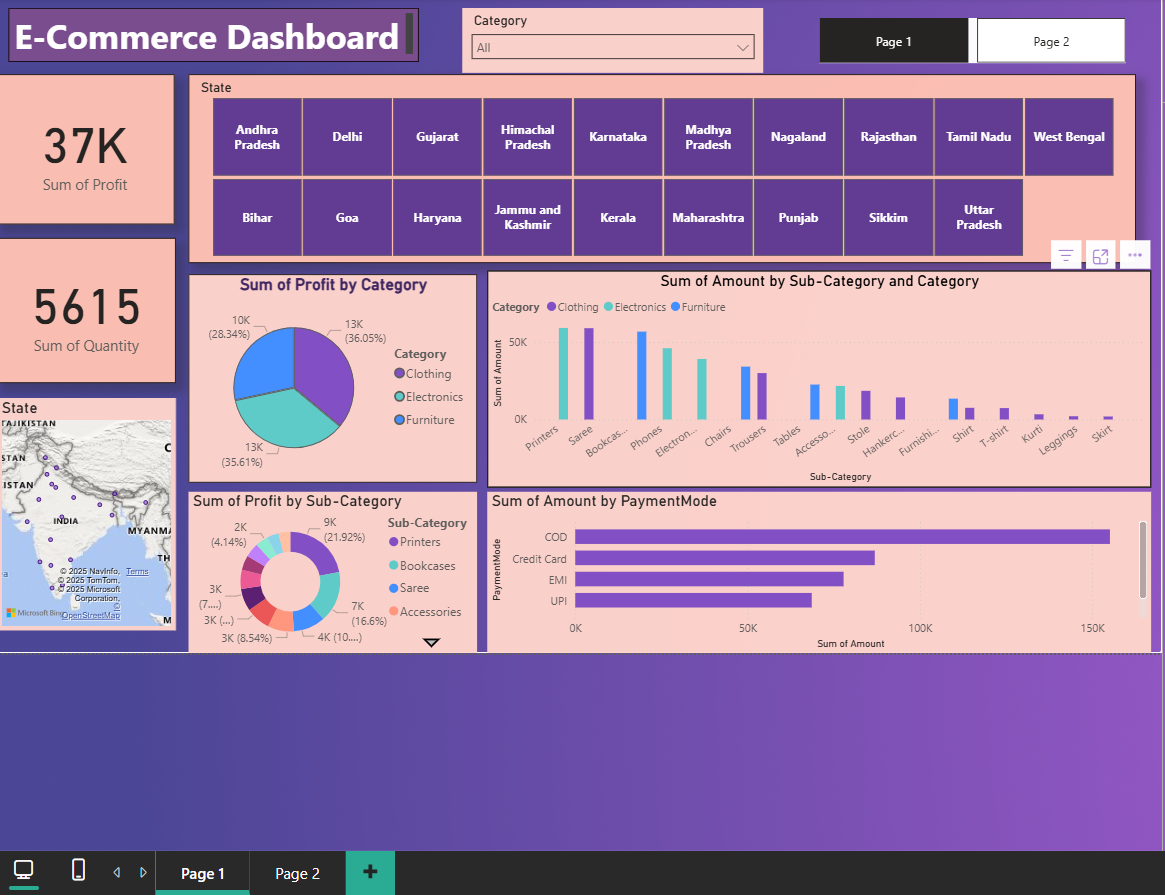

This screenshot's page, from the dashboard's own definition file:
{"tool":"powerbi","page":{"name":"Page 1","canvas":[1280,720],"ordinal":0},"visuals":[{"type":"card","fields":{"Values":["Sum(Details.Profit)"]},"box":[0,83.7,196.2,164.7],"z":0},{"type":"card","fields":{"Values":["Sum(Details.Quantity)"]},"box":[1.4,263.5,196.2,159.2],"z":1000},{"type":"textbox","box":[13.7,11,450.1,59],"z":2000},{"type":"slicer","fields":{"Values":["Ordersdata.State"]},"box":[211.3,83.7,1040.1,207.2],"z":3000},{"type":"map","fields":{"Category":["Ordersdata.State"]},"box":[1.4,439.1,196.2,255.2],"z":4000},{"type":"pieChart","fields":{"Category":["Details.Category"],"Y":["Sum(Details.Profit)"]},"box":[211.3,303.3,317,229.2],"z":5000},{"type":"clusteredColumnChart","fields":{"Category":["Details.Sub-Category"],"Series":["Details.Category"],"Y":["Sum(Details.Amount)"]},"box":[539.3,299.1,728.6,238.8],"z":5001},{"type":"donutChart","fields":{"Category":["Details.Sub-Category"],"Y":["Sum(Details.Profit)"]},"box":[211.3,542,317,178.4],"z":5002},{"type":"clusteredBarChart","fields":{"Category":["Details.PaymentMode"],"Y":["Sum(Details.Amount)"]},"box":[539,542,729,178],"z":5003},{"type":"pageNavigator","box":[904.3,22,336.2,49.4],"z":5004},{"type":"slicer","fields":{"Values":["Details.Category"]},"box":[511.8,11,330.7,71.4],"z":5005}]}

Visuals, with their boxes in screenshot pixels (x1, y1, x2, y2):
card - Sum(Details.Profit): 0/75/173/223
card - Sum(Details.Quantity): 0/237/174/379
textbox: 9/10/413/63
slicer - Ordersdata.State: 187/75/1120/261
map - Ordersdata.State: 0/394/174/623
pieChart - Details.Category x Sum(Details.Profit): 187/272/471/478
clusteredColumnChart - Details.Sub-Category x Details.Category: 481/268/1135/483
donutChart - Details.Sub-Category x Sum(Details.Profit): 187/486/471/647
clusteredBarChart - Details.PaymentMode x Sum(Details.Amount): 481/486/1135/646
pageNavigator: 809/20/1110/64
slicer - Details.Category: 456/10/753/74
